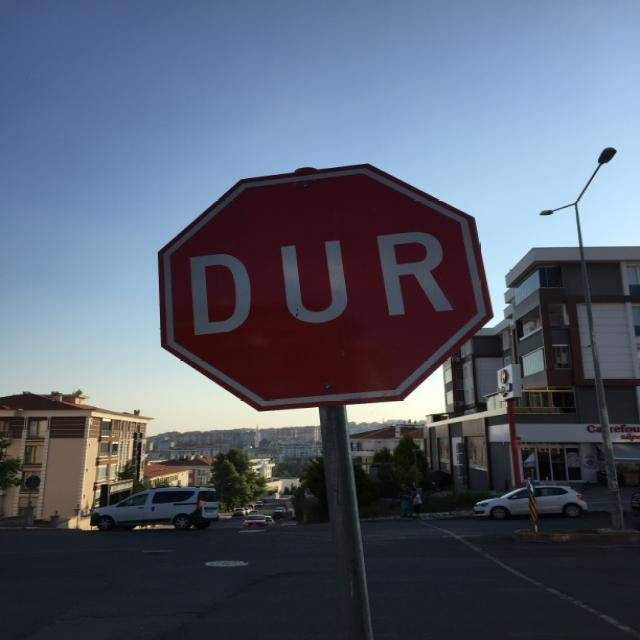dur: (157, 159, 497, 410)
